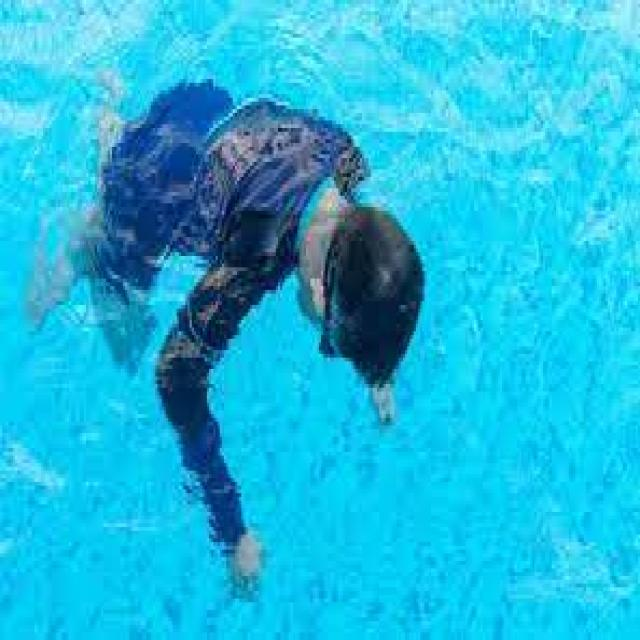Drowning: (30, 50, 460, 578)
